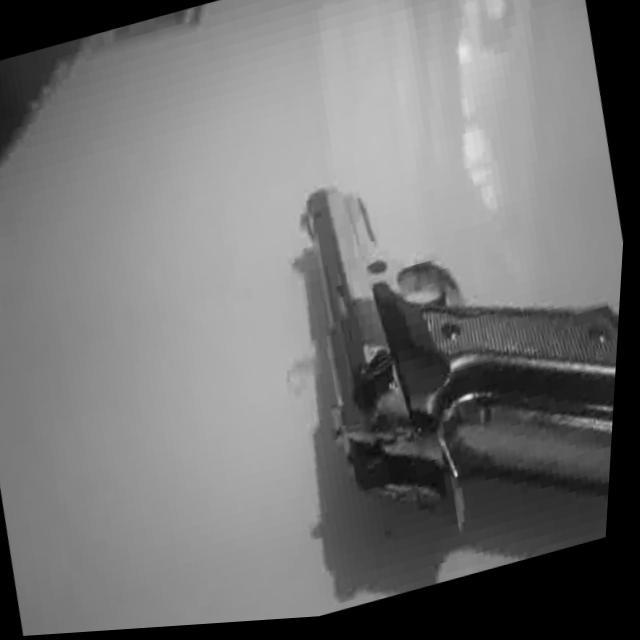weapon: (250, 116, 633, 590)
